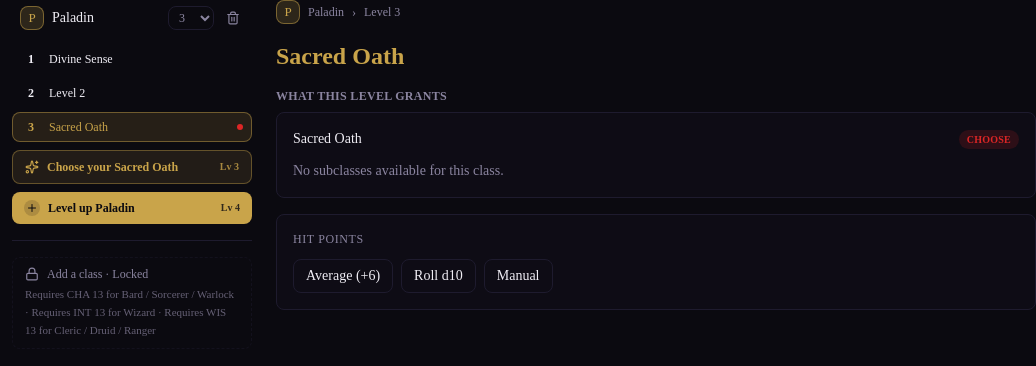
ClassStepRail › switches the main pane content when a different level pill is clicked
expect the 1st heading "Sacred Oath" is shown: met, box [276,43,404,69]
Click Lv 1 → title becomes "Divine Sense".
Click the button with aria-label "level 1": (132, 59) [12,44,252,74]
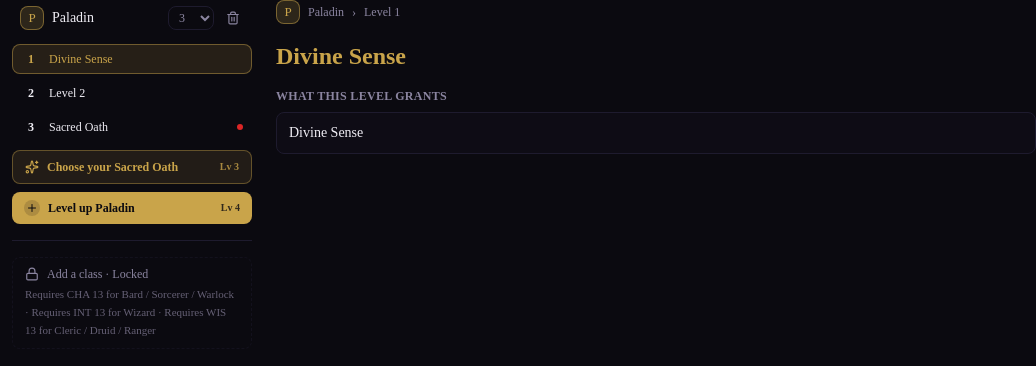
expect the 1st heading "Divine Sense" is shown: met, box [276,43,406,69]
